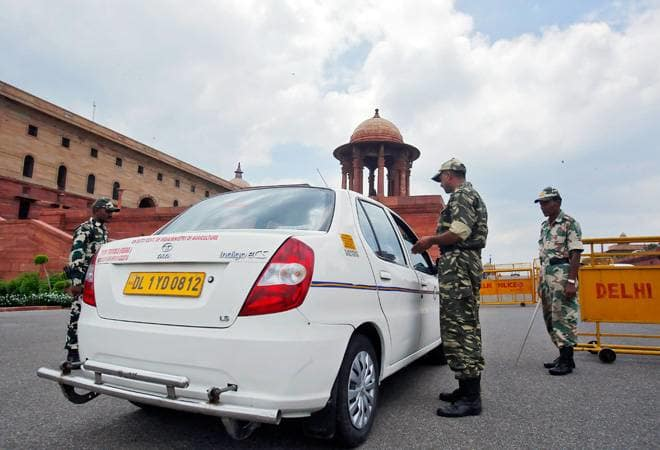number_plate: (122, 269, 209, 298)
